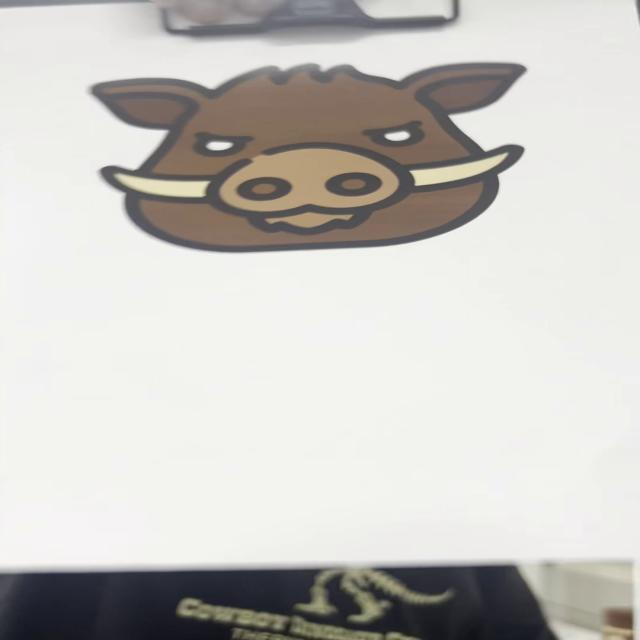animal: (94, 60, 536, 254)
